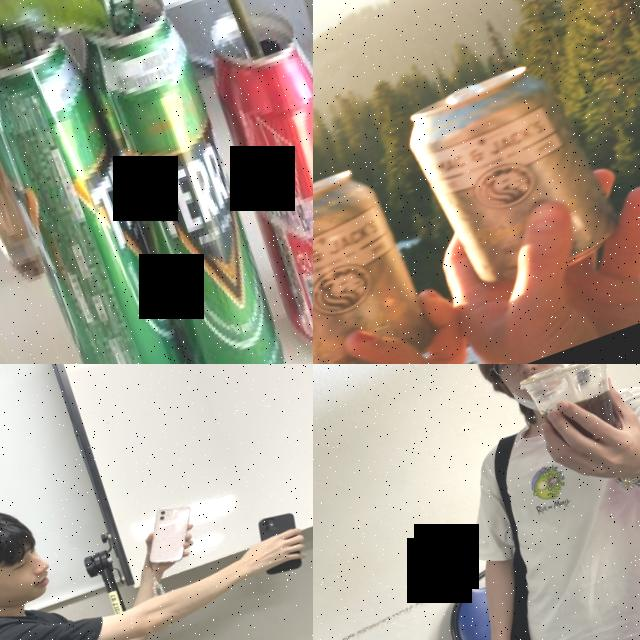can: (60, 0, 313, 364), (0, 11, 217, 364), (398, 54, 626, 302), (181, 0, 313, 364), (313, 160, 443, 364)
cup: (519, 364, 638, 465)
